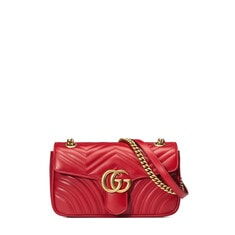Gucci: (46, 138, 190, 221), (100, 168, 140, 199)
